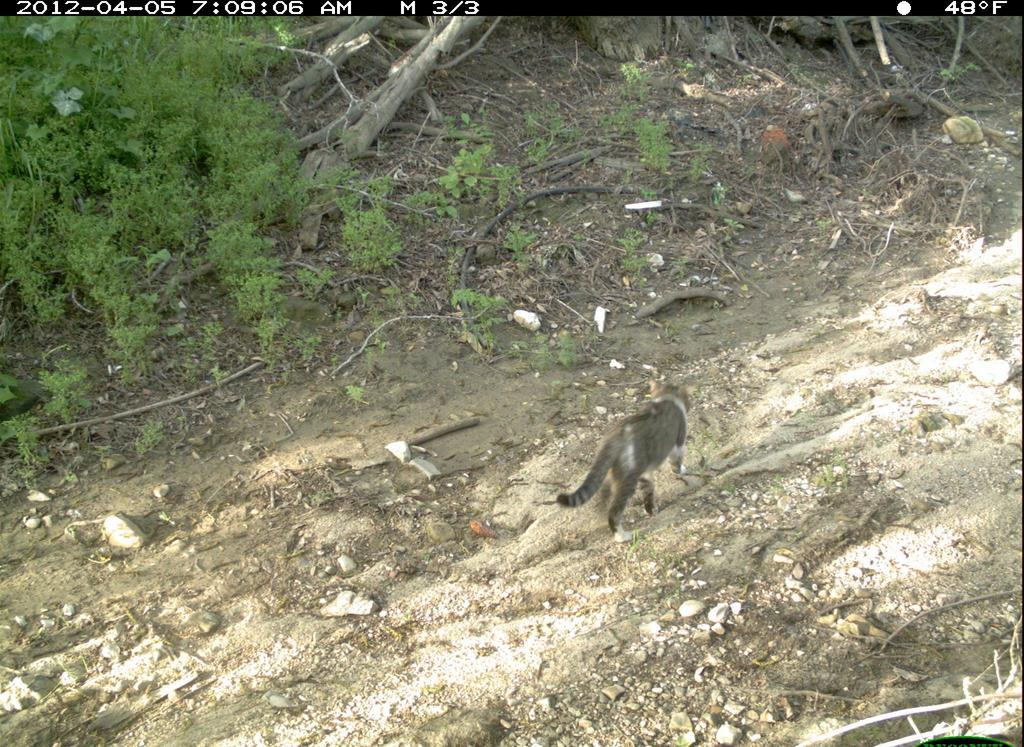cat: (552, 372, 707, 550)
